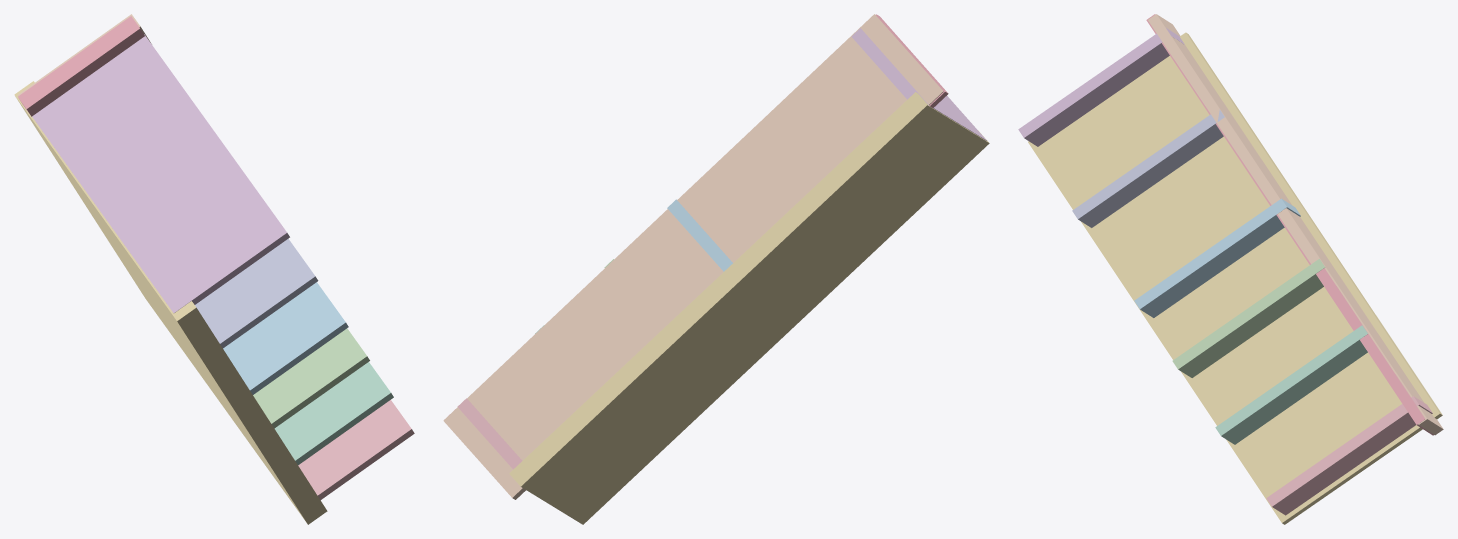
File: view_assembly_9_colored.glb
3 renders of one model, left to right at view 1: azimuth 30°, elevation 25°; view 2: azimuth 150°, elevation 25°; view 3: azimuth 270°, elevation 25°, orthographic. The views are drawn at different scales.
Visible parts, largest first — view 1: world; view 2: world; view 3: world.
Part boxes in pixels (x1,y1,x2,y2): world: [14, 14, 414, 524]; world: [443, 14, 989, 524]; world: [1018, 14, 1443, 524].
Bounding box in the file's own units: 0.7482 × 0.9803 × 0.8927.
